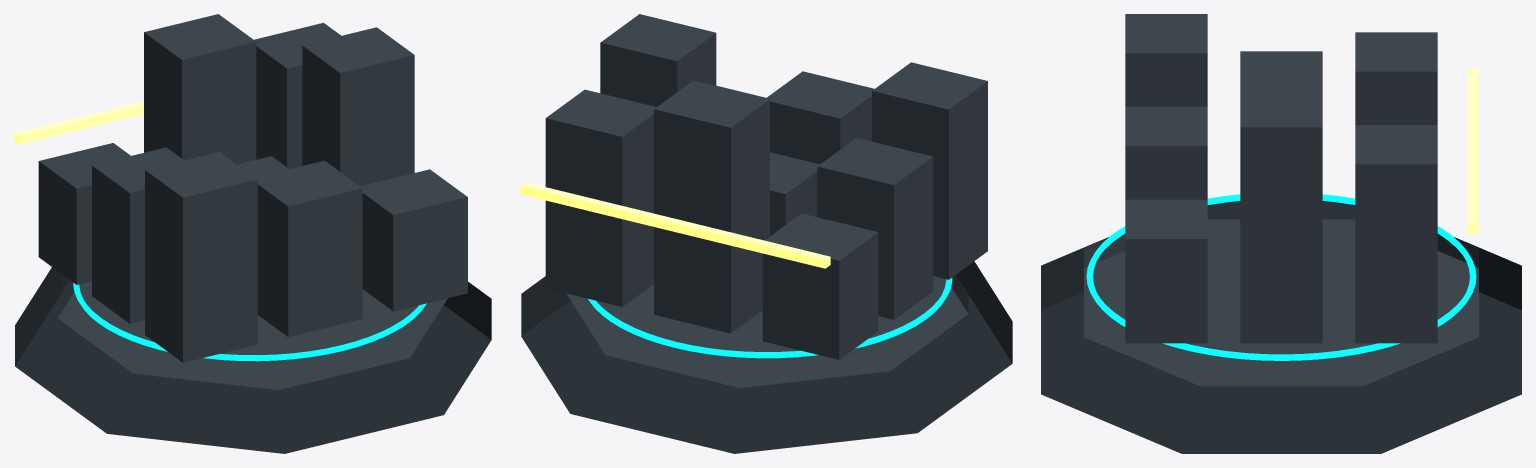
The model's file is district_operations.glb.
3 views of the same model, side by side, from view 1: azimuth 30°, elevation 25°; view 2: azimuth 150°, elevation 25°; view 3: azimuth 270°, elevation 25° (orthographic). The views are drawn at different scales.
Parts seen in each view (by area): view 1: district_operations_octagonal_base, district_operations_dense_block_6, district_operations_dense_block_7, district_operations_dense_block_5, district_operations_upper_plate, district_operations_dense_block_1, district_operations_dense_block_8, district_operations_dense_block_3, district_operations_dense_block_0, district_operations_dense_block_2, district_operations_base_cyan_circuit, district_operations_operations_lane (+1 smaller); view 2: district_operations_octagonal_base, district_operations_dense_block_1, district_operations_dense_block_2, district_operations_upper_plate, district_operations_dense_block_6, district_operations_dense_block_0, district_operations_dense_block_3, district_operations_dense_block_5, district_operations_dense_block_7, district_operations_operations_lane, district_operations_dense_block_4, district_operations_base_cyan_circuit; view 3: district_operations_octagonal_base, district_operations_upper_plate, district_operations_dense_block_5, district_operations_dense_block_2, district_operations_dense_block_8, district_operations_dense_block_7, district_operations_dense_block_1, district_operations_dense_block_6, district_operations_base_cyan_circuit, district_operations_dense_block_3, district_operations_operations_lane.
Part boxes in pixels (x1=…): district_operations_octagonal_base: x1=15, y1=267, x2=491, y2=453; district_operations_dense_block_6: x1=145, y1=152, x2=257, y2=362; district_operations_dense_block_7: x1=255, y1=160, x2=362, y2=336; district_operations_dense_block_5: x1=302, y1=27, x2=414, y2=186; district_operations_upper_plate: x1=57, y1=280, x2=447, y2=389; district_operations_dense_block_1: x1=144, y1=14, x2=256, y2=164; district_operations_dense_block_8: x1=360, y1=169, x2=467, y2=311; district_operations_dense_block_3: x1=92, y1=147, x2=183, y2=323; district_operations_dense_block_0: x1=38, y1=143, x2=130, y2=284; district_operations_dense_block_2: x1=254, y1=23, x2=341, y2=168; district_operations_base_cyan_circuit: x1=73, y1=283, x2=426, y2=361; district_operations_operations_lane: x1=14, y1=101, x2=143, y2=144; district_operations_octagonal_base: x1=521, y1=261, x2=1012, y2=453; district_operations_dense_block_1: x1=654, y1=80, x2=769, y2=333; district_operations_dense_block_2: x1=545, y1=89, x2=656, y2=306; district_operations_upper_plate: x1=566, y1=275, x2=968, y2=387; district_operations_dense_block_6: x1=872, y1=62, x2=987, y2=279; district_operations_dense_block_0: x1=762, y1=213, x2=878, y2=359; district_operations_dense_block_3: x1=817, y1=138, x2=933, y2=319; district_operations_dense_block_5: x1=600, y1=14, x2=716, y2=106; district_operations_dense_block_7: x1=766, y1=71, x2=874, y2=164; district_operations_operations_lane: x1=520, y1=182, x2=830, y2=268; district_operations_dense_block_4: x1=770, y1=152, x2=819, y2=236; district_operations_base_cyan_circuit: x1=588, y1=277, x2=952, y2=358; district_operations_octagonal_base: x1=1041, y1=237, x2=1521, y2=453; district_operations_upper_plate: x1=1084, y1=201, x2=1478, y2=386; district_operations_dense_block_5: x1=1240, y1=88, x2=1322, y2=343; district_operations_dense_block_2: x1=1355, y1=125, x2=1437, y2=343; district_operations_dense_block_8: x1=1125, y1=199, x2=1207, y2=343; district_operations_dense_block_7: x1=1125, y1=106, x2=1207, y2=199; district_operations_dense_block_1: x1=1355, y1=32, x2=1437, y2=124; district_operations_dense_block_6: x1=1125, y1=14, x2=1207, y2=106; district_operations_base_cyan_circuit: x1=1086, y1=194, x2=1476, y2=360; district_operations_dense_block_3: x1=1240, y1=51, x2=1322, y2=87; district_operations_operations_lane: x1=1467, y1=68, x2=1478, y2=233.
Size of the model in its own units: 1.76 by 1.21 by 1.76.
